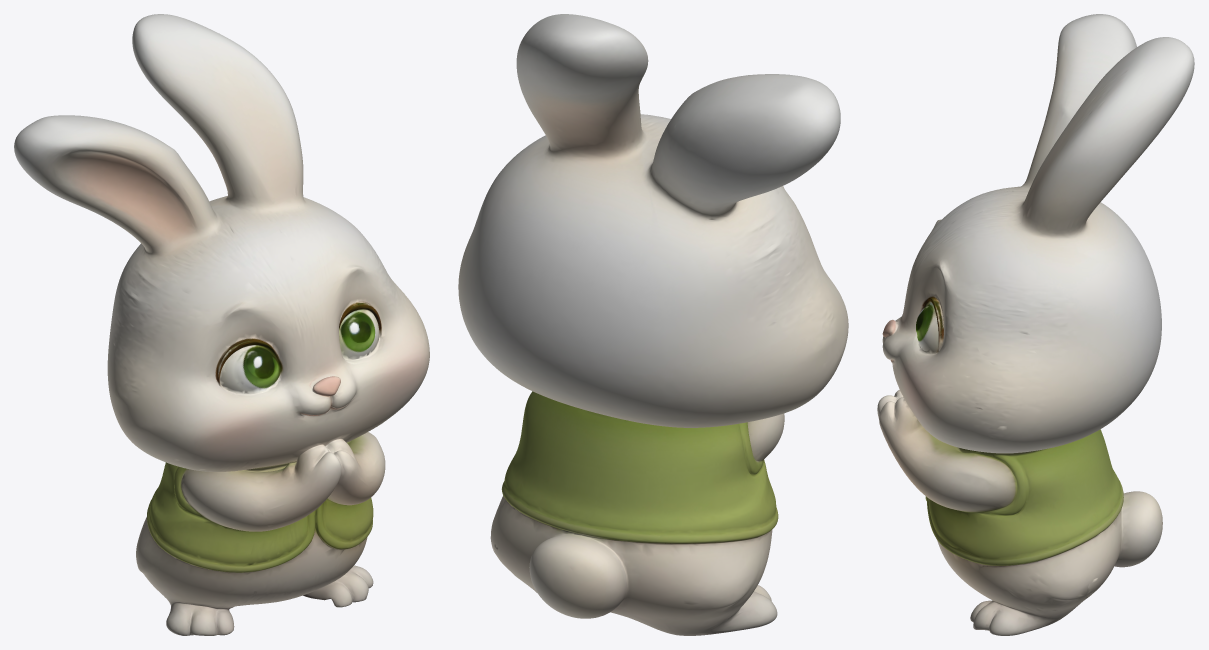
File: meshy-rabbit.glb
The picture shows the model from 3 angles, left to right: view 1: azimuth 30°, elevation 25°; view 2: azimuth 150°, elevation 25°; view 3: azimuth 270°, elevation 25°; orthographic projection. The views are drawn at different scales.
Visible parts, largest first — view 1: node_0; view 2: node_0; view 3: node_0.
Boxes of the visible parts, box(x1,y1,x2,y2) form: node_0: box(14, 14, 429, 635); node_0: box(458, 14, 848, 635); node_0: box(877, 14, 1194, 635).
Size of the model in its own units: 0.7274 by 1.08 by 0.5814.
1 material, 1 textured.
